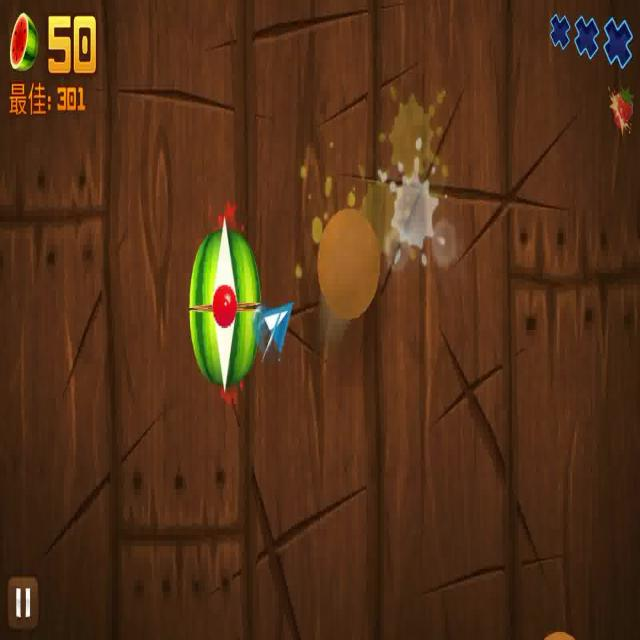fruit: (189, 225, 259, 385), (317, 208, 380, 322)
